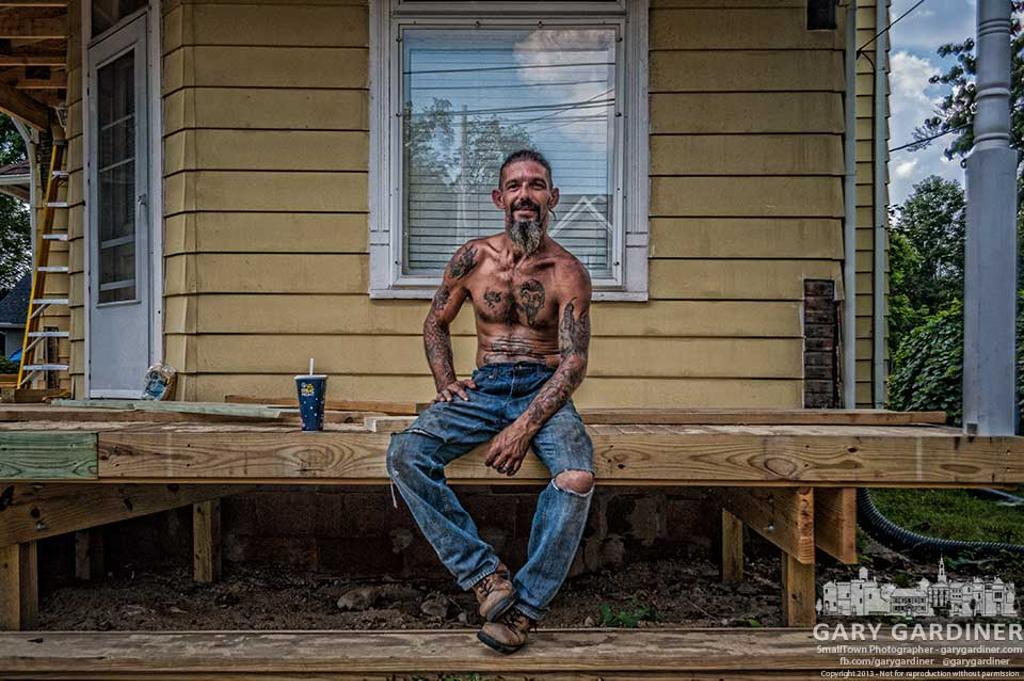face: (504, 161, 550, 231)
